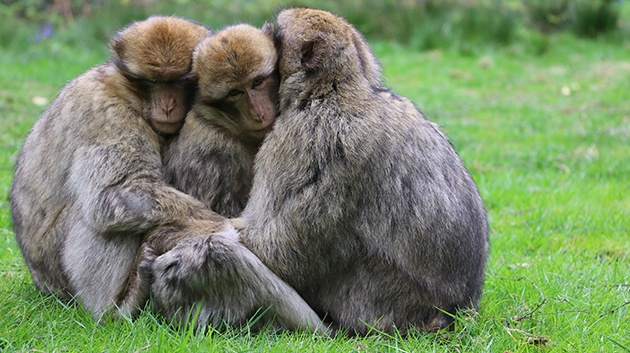monkey: (248, 2, 490, 347), (4, 9, 223, 331), (167, 20, 286, 221)
